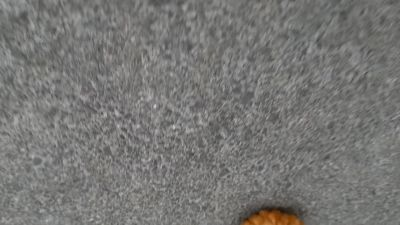eggs: (237, 207, 304, 225)
